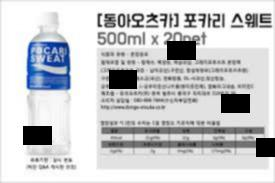pocarisweat: (22, 12, 76, 156)
